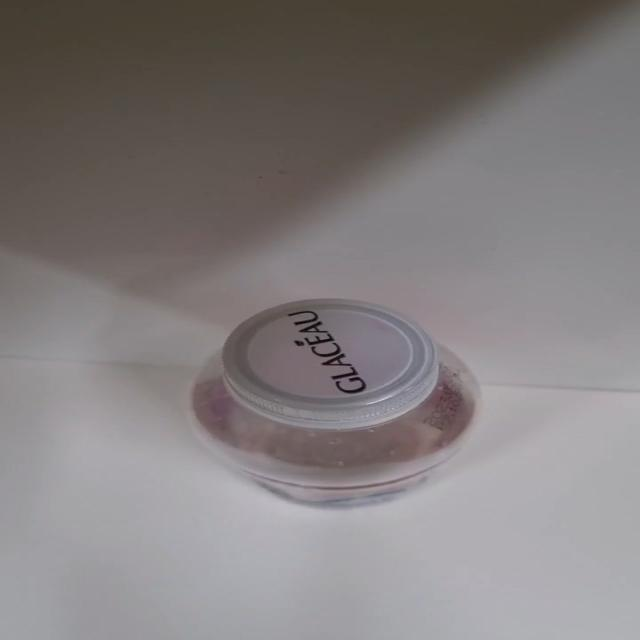Plastic: (189, 299, 480, 509)
